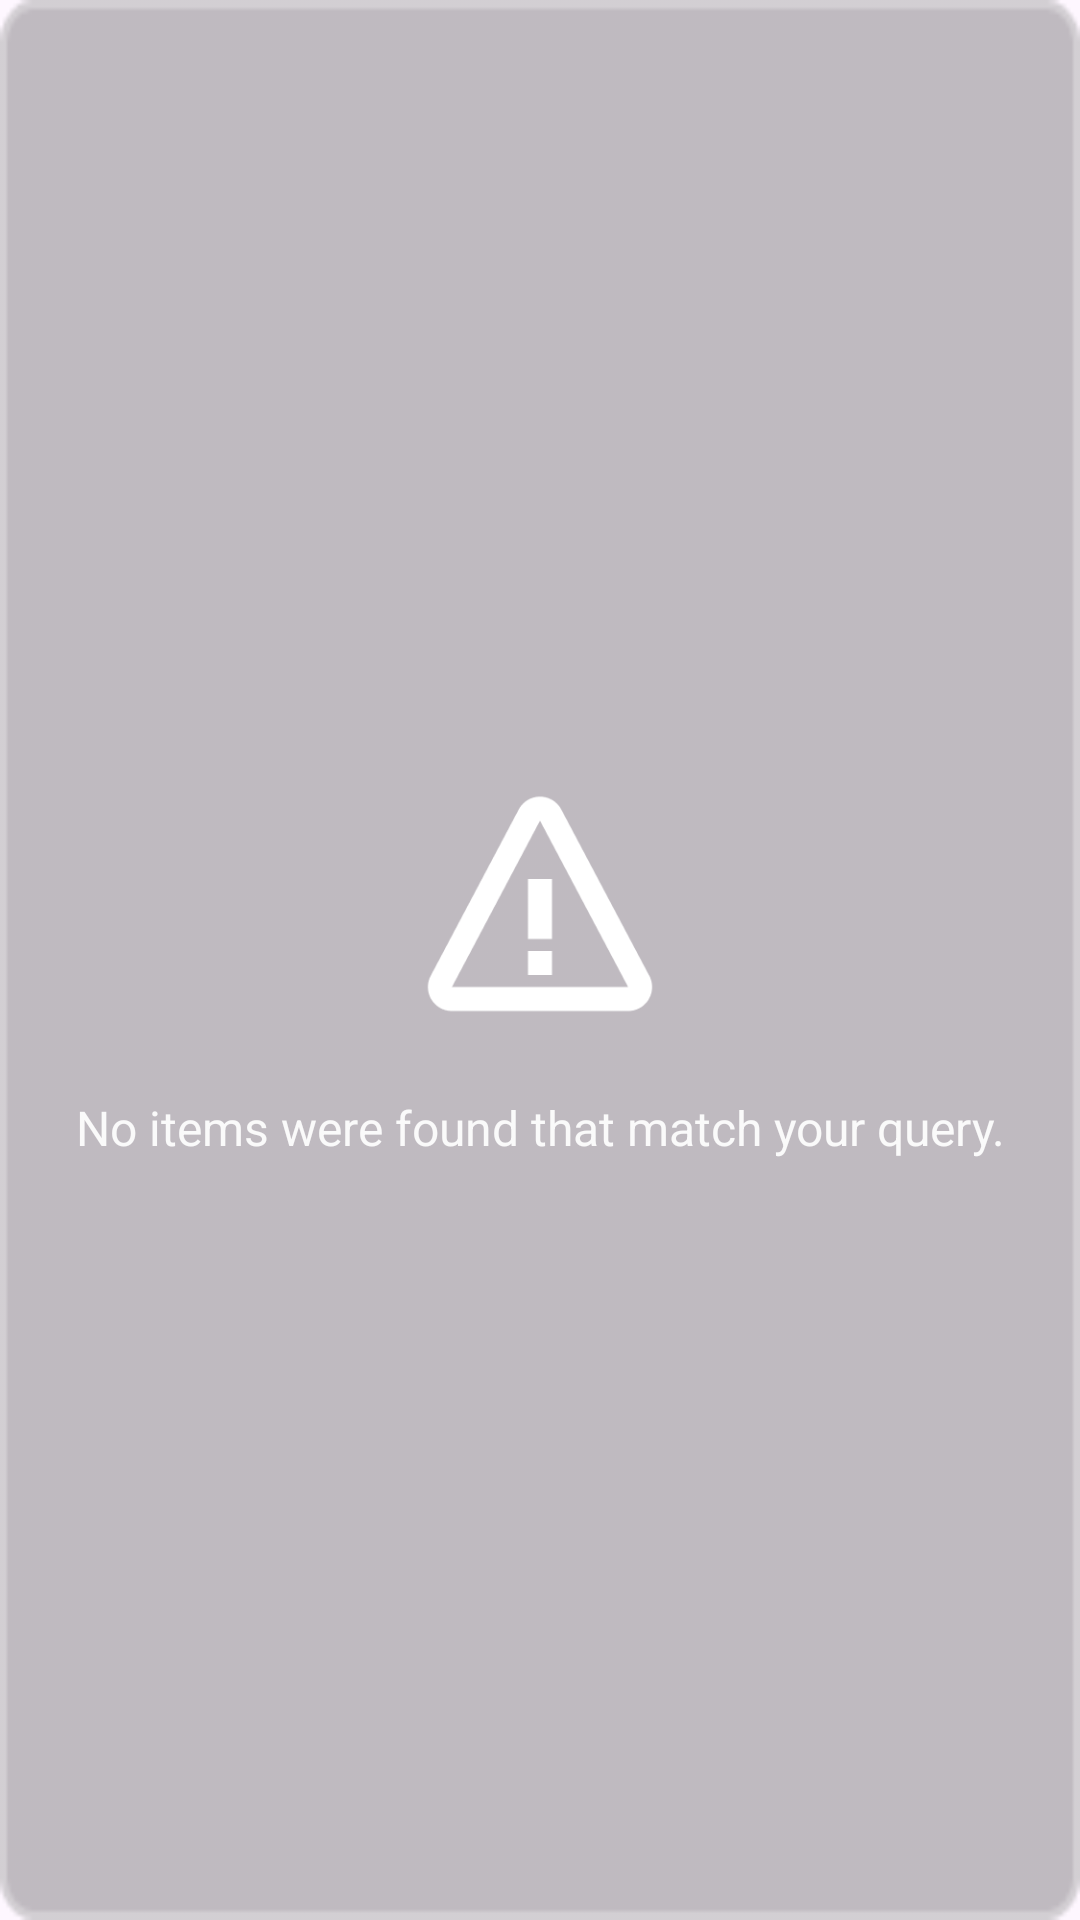

Screen size 1080 × 1920. Icon name, then its center in pixels as point (x, y):
No results warning icon: point (540, 903)
